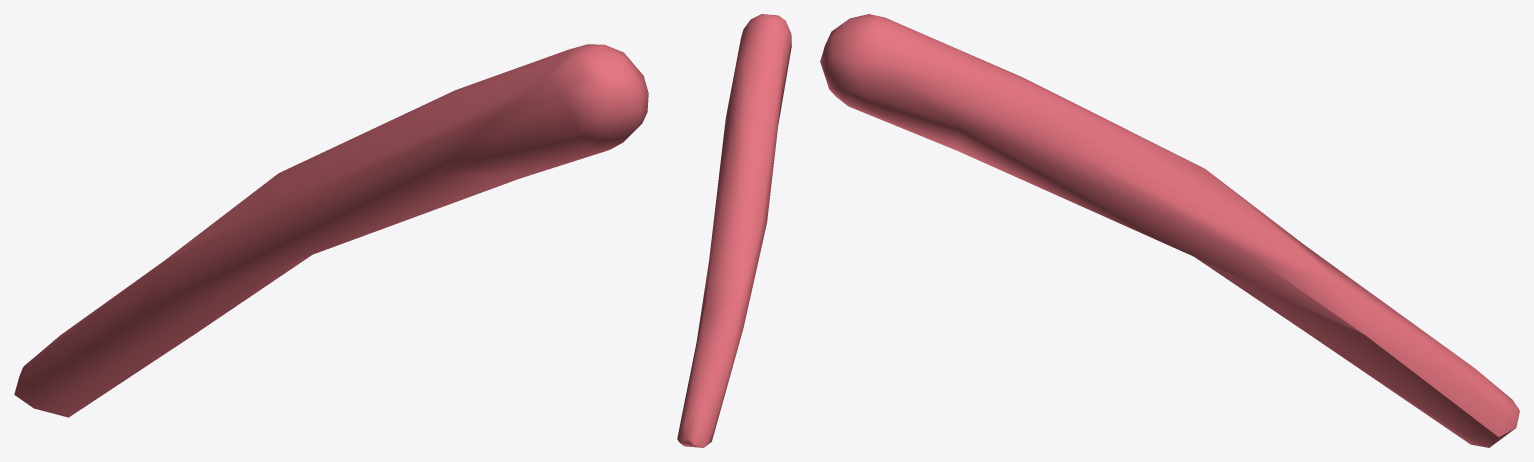
The model's file is fma8670_fj3065.glb.
3 renders of one model, left to right at view 1: azimuth 30°, elevation 25°; view 2: azimuth 150°, elevation 25°; view 3: azimuth 270°, elevation 25°, orthographic. The views are drawn at different scales.
Visible parts, largest first — view 1: FMA8670_FJ3065; view 2: FMA8670_FJ3065; view 3: FMA8670_FJ3065.
Boxes of the visible parts, bbox=[...] form: FMA8670_FJ3065: bbox=[14, 44, 648, 417]; FMA8670_FJ3065: bbox=[677, 14, 791, 447]; FMA8670_FJ3065: bbox=[820, 14, 1519, 447].
Size of the model in its own units: 0.00796 by 0.016 by 0.0199.
